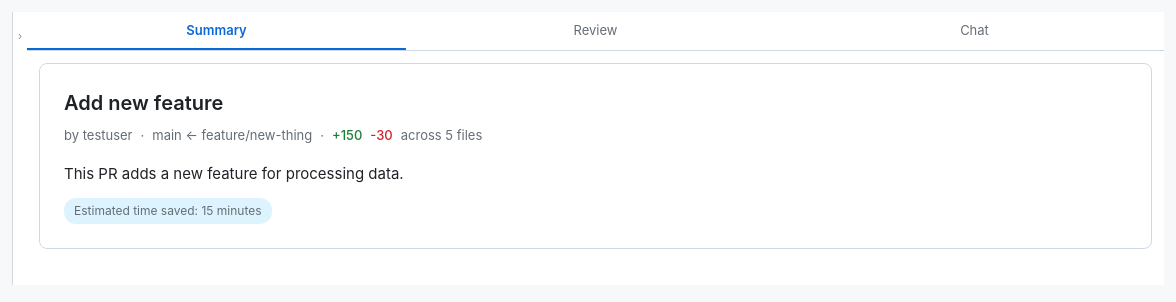
Test: RightRail › shows active file path in chat header when file is active
# Switch to chat tab
Click the button "Chat" at (974, 31), box left=785, top=12, right=1164, bottom=50
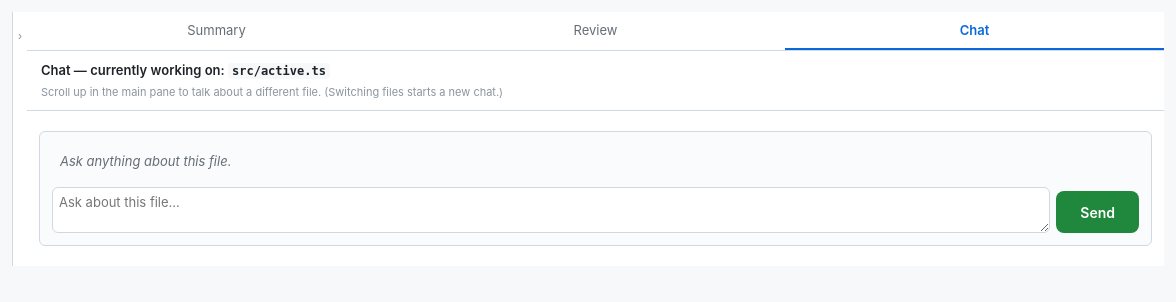
Check: the text "src/active.ts" is shown, box left=228, top=63, right=330, bottom=79
